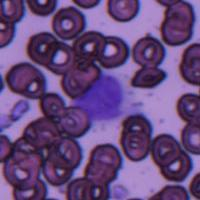M: (72, 72, 127, 121)
